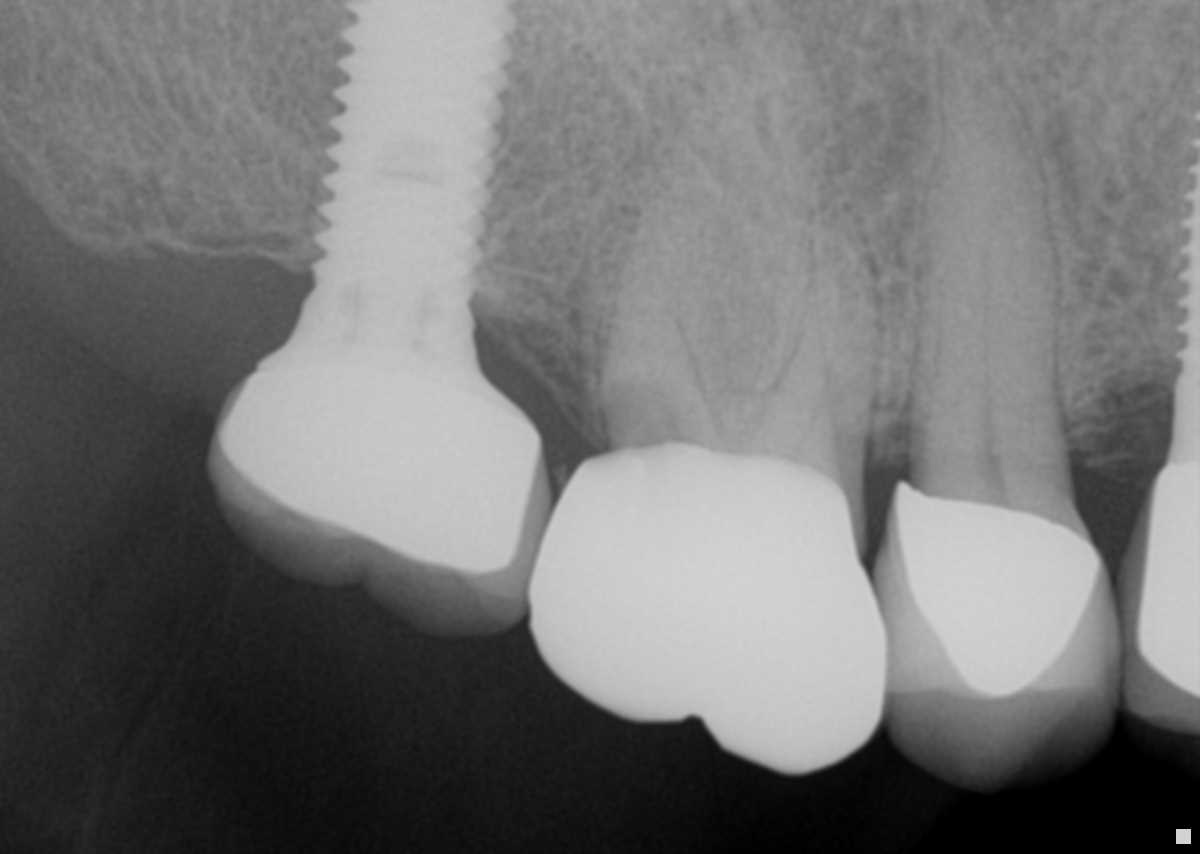Distal Root: (596, 239, 705, 437)
Main Canal: (977, 252, 993, 443)
Main Root: (906, 21, 1063, 454)
Mesial Root: (769, 207, 880, 448)
Palatal Root: (592, 62, 839, 434)
decay: (600, 374, 683, 455)
